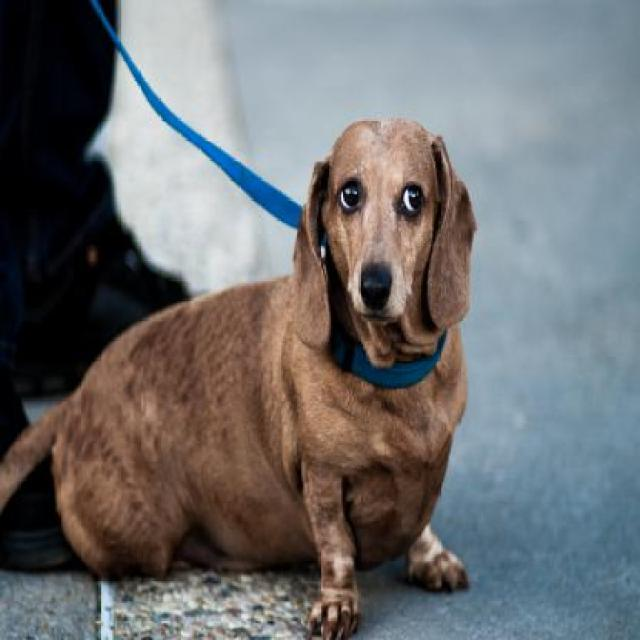Dog: (0, 120, 482, 638)
